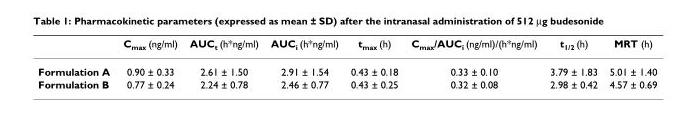table: (37, 36, 656, 89)
table column: (403, 36, 542, 89), (182, 36, 263, 89), (263, 36, 343, 89), (37, 36, 115, 89), (115, 36, 182, 89), (343, 36, 403, 89), (542, 36, 602, 89), (602, 36, 656, 89)
table column header: (37, 36, 656, 57)
table row: (37, 36, 656, 57), (37, 57, 656, 77), (37, 77, 656, 89)
